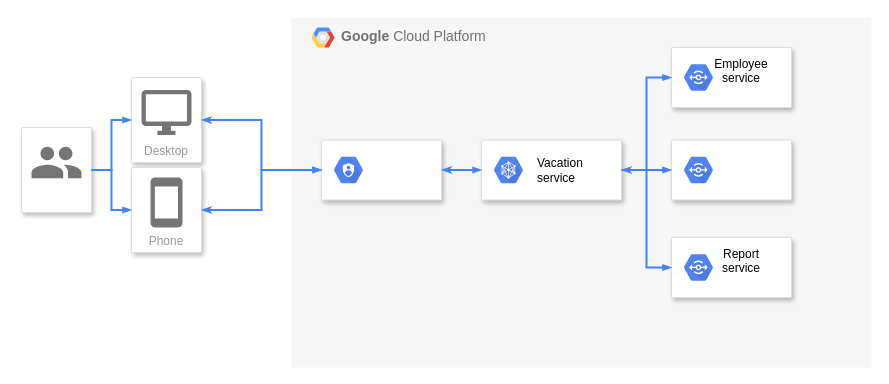
The diagram is 889 pixels wide and 384 high, and some of its shapes have lost their labels. Here are the shapes that lost their labels. From the top down, the centre of each, then its label:
At [57,171]: "Users".
At [382,171]: "Access control service".
At [732,171]: "Request service".
